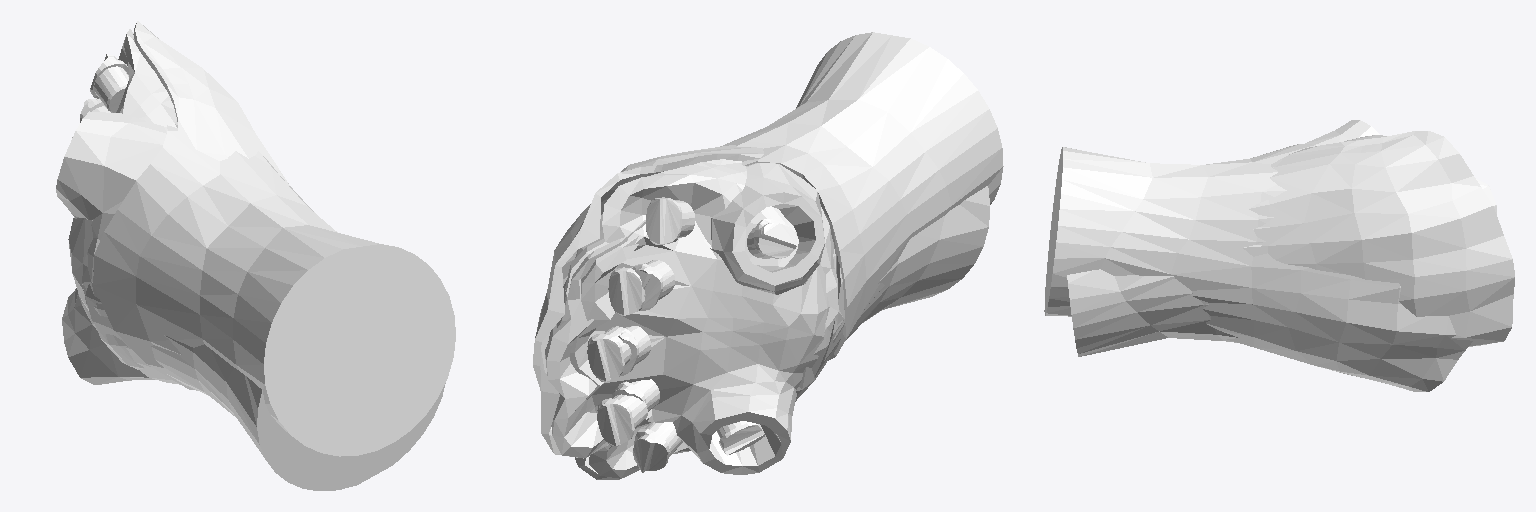
--- Render facts (derived) ---
3 views of the same robot in one strip: view 1: azimuth 30°, elevation 25°; view 2: azimuth 150°, elevation 25°; view 3: azimuth 270°, elevation 25° (orthographic).
Model JulietteY20MP_crowdbotsim with 56 links and 55 joints (45 revolute, 10 fixed), rooted at base_link, posed all joints at 0 but 6 set to mid-range because 0 is outside their limits (LShoulder_LBicep_joint = 0.7854, LElbow_LForeArm_joint = -0.7854, l_wrist_l_gripper_joint = 0.5, RShoulder_RBicep_joint = -0.7854, RElbow_RForeArm_joint = 0.7854, r_wrist_r_gripper_joint = 0.5).
Visible links, largest first — view 1: r_wrist, l_wrist; view 2: l_wrist, r_wrist; view 3: r_wrist, l_wrist.
Boxes of the visible links, x1,y1,x2,y2 form: r_wrist: (56, 99, 455, 456); l_wrist: (62, 21, 445, 490); l_wrist: (533, 145, 989, 474); r_wrist: (548, 32, 1003, 479); r_wrist: (1044, 120, 1496, 391); l_wrist: (1067, 131, 1514, 356).
Size in the robot's own frame: 7.04 by 16.62 by 9.7 metres.
Meshes: 49 distinct files referenced, 35 mesh visuals loaded (35 binary STL); not drawn: 14 (reference not matched to a file when rendering).

URDF robot description (JulietteY20MP_crowdbotsim):
?<?xml version="1.0" encoding="utf-8"?>
<robot name="JulietteY20MP_crowdbotsim">
  <material name="defaultMat">
    <color rgba="0.8 0.8 0.8 1" />
  </material>
  <material name="PepperWhiteBright">
    <color rgba="1 1 1 1" />
  </material>
  <material name="HipRoll_GROUPE_01_JULIETT.000Mat">
    <color rgba="0.8 0.8 0.8 1" />
  </material>
  <material name="HeadYaw_JULIETTE_TETE_GROUPE_Mat">
    <color rgba="0.8 0.8 0.8 1" />
  </material>
  <material name="LShoulderPitch_JULIETTE_BRAS_DR_.001Mat">
    <color rgba="0.8 0.8 0.8 1" />
  </material>
  <material name="LElbowYaw_JULIETTE_AV_BRAS_.026Mat">
    <color rgba="0.8 0.8 0.8 1" />
  </material>
  <material name="LFinger21_JULIETTE_AV_BRAS_.077Mat">
    <color rgba="0.8 0.8 0.8 1" />
  </material>
  <material name="LFinger22_JULIETTE_AV_BRAS_.078Mat">
    <color rgba="0.8 0.8 0.8 1" />
  </material>
  <material name="LFinger23_JULIETTE_AV_BRAS_.079Mat">
    <color rgba="0.8 0.8 0.8 1" />
  </material>
  <material name="LFinger11_JULIETTE_AV_BRAS_.075Mat">
    <color rgba="0.8 0.8 0.8 1" />
  </material>
  <material name="LFinger12_JULIETTE_AV_BRAS_.076Mat">
    <color rgba="0.8 0.8 0.8 1" />
  </material>
  <material name="LFinger13_JULIETTE_AV_BRAS_.010Mat">
    <color rgba="0.8 0.8 0.8 1" />
  </material>
  <material name="LFinger41_JULIETTE_AV_BRAS_.083Mat">
    <color rgba="0.8 0.8 0.8 1" />
  </material>
  <material name="LFinger42_JULIETTE_AV_BRAS_.084Mat">
    <color rgba="0.8 0.8 0.8 1" />
  </material>
  <material name="LFinger43_JULIETTE_AV_BRAS_.085Mat">
    <color rgba="0.8 0.8 0.8 1" />
  </material>
  <material name="LFinger31_JULIETTE_AV_BRAS_.080Mat">
    <color rgba="0.8 0.8 0.8 1" />
  </material>
  <material name="LFinger32_JULIETTE_AV_BRAS_.081Mat">
    <color rgba="0.8 0.8 0.8 1" />
  </material>
  <material name="LFinger33_JULIETTE_AV_BRAS_.082Mat">
    <color rgba="0.8 0.8 0.8 1" />
  </material>
  <material name="LThumb1_JULIETTE_AV_BRAS_.086Mat">
    <color rgba="0.8 0.8 0.8 1" />
  </material>
  <material name="LThumb2_JULIETTE_AV_BRAS_.087Mat">
    <color rgba="0.8 0.8 0.8 1" />
  </material>
  <material name="RShoulderPitch_JULIETTE_BRAS_DR_ALLMat">
    <color rgba="0.8 0.8 0.8 1" />
  </material>
  <material name="RElbowYaw_JULIETTE_AV_BRAS_.003Mat">
    <color rgba="0.8 0.8 0.8 1" />
  </material>
  <material name="RFinger41_JULIETTE_AV_BRAS_.099Mat">
    <color rgba="0.8 0.8 0.8 1" />
  </material>
  <material name="RFinger42_JULIETTE_AV_BRAS_.100Mat">
    <color rgba="0.8 0.8 0.8 1" />
  </material>
  <material name="RFinger43_JULIETTE_AV_BRAS_.101Mat">
    <color rgba="0.8 0.8 0.8 1" />
  </material>
  <material name="RFinger31_JULIETTE_AV_BRAS_.096Mat">
    <color rgba="0.8 0.8 0.8 1" />
  </material>
  <material name="RFinger32_JULIETTE_AV_BRAS_.097Mat">
    <color rgba="0.8 0.8 0.8 1" />
  </material>
  <material name="RFinger33_JULIETTE_AV_BRAS_.098Mat">
    <color rgba="0.8 0.8 0.8 1" />
  </material>
  <material name="RFinger21_JULIETTE_AV_BRAS_.093Mat">
    <color rgba="0.8 0.8 0.8 1" />
  </material>
  <material name="RFinger22_JULIETTE_AV_BRAS_.094Mat">
    <color rgba="0.8 0.8 0.8 1" />
  </material>
  <material name="RFinger23_JULIETTE_AV_BRAS_.095Mat">
    <color rgba="0.8 0.8 0.8 1" />
  </material>
  <material name="RFinger11_JULIETTE_AV_BRAS_.090Mat">
    <color rgba="0.8 0.8 0.8 1" />
  </material>
  <material name="RFinger12_JULIETTE_AV_BRAS_.091Mat">
    <color rgba="0.8 0.8 0.8 1" />
  </material>
  <material name="RFinger13_JULIETTE_AV_BRAS_.092Mat">
    <color rgba="0.8 0.8 0.8 1" />
  </material>
  <material name="RThumb1_JULIETTE_AV_BRAS_.088Mat">
    <color rgba="0.8 0.8 0.8 1" />
  </material>
  <material name="RThumb2_JULIETTE_AV_BRAS_.089Mat">
    <color rgba="0.8 0.8 0.8 1" />
  </material>
  <material name="WheelFL_GROUPE_01_JULIETT.003Mat">
    <color rgba="0.8 0.8 0.8 1" />
  </material>
  <material name="WheelB_GROUPE_01_JULIETT.004Mat">
    <color rgba="0.8 0.8 0.8 1" />
  </material>
  <material name="WheelFR_GROUPE_01_JULIETT.002Mat">
    <color rgba="0.8 0.8 0.8 1" />
  </material>
  <material name="PepperBlackMat">
    <color rgba="0.1471 0.1471 0.1471 1" />
  </material>
  <link name="base_link">
    <inertial>
      <origin rpy="0 0 0" xyz="0 0 0" />
      <mass value="0.001" />
      <inertia ixx="1" ixy="0" ixz="0" iyy="1" iyz="0" izz="1" />
    </inertial>
  </link>
  <link name="base_footprint">
    <inertial>
      <origin rpy="0 0 0" xyz="0 0 0" />
      <mass value="0.001" />
      <inertia ixx="1" ixy="0" ixz="0" iyy="1" iyz="0" izz="1" />
    </inertial>
  </link>
  <link name="Tibia">
    <inertial>
      <origin rpy="0 0 0" xyz="0.002205 0 0.082271" />
      <mass value="11.6014995575" />
      <inertia ixx="0.129179716110229" ixy="0.000148943698150106" ixz="-0.00131446425803006" iyy="0.122817315161228" iyz="-6.18266966512238E-08" izz="0.108239002525806" />
    </inertial>
    <visual>
      <geometry>
        <mesh filename="package://meshes/KneePitch_shiny.stl" scale="0.1 0.1 0.1" />
      </geometry>
      <material name="defaultMat" />
    </visual>
    <collision>
      <geometry>
        <mesh filename="package://meshes/KneePitch_0.10.stl" scale="0.1 0.1 0.1" />
      </geometry>
    </collision>
  </link>
  <link name="Pelvis">
    <inertial>
      <origin rpy="0 0 0" xyz="0.00237 0 -0.01754" />
      <mass value="2.4591701031" />
      <inertia ixx="0.0343529880046844" ixy="4.50889419880696E-05" ixz="-4.85995178678422E-06" iyy="0.0303127057850361" iyz="-8.37638581288047E-05" izz="0.0143746118992567" />
    </inertial>
    <visual>
      <origin xyz="0 0 0.268" />
      <geometry>
        <mesh filename="package://meshes/HipPitch_milky.stl" scale="0.1 0.1 0.1" />
      </geometry>
      <material name="PepperWhiteBright" />
    </visual>
    <collision>
      <origin xyz="0 0 0.268" />
      <geometry>
        <mesh filename="package://meshes/HipPitch_0.10.stl" scale="0.1 0.1 0.1" />
      </geometry>
    </collision>
  </link>
  <link name="Hip">
    <inertial>
      <origin rpy="0 0 0" xyz="0.00032 0 -0.07068" />
      <mass value="1.0233800411" />
      <inertia ixx="0.00440107891336083" ixy="4.93292791361455E-05" ixz="-4.91466471430613E-06" iyy="0.00502362661063671" iyz="5.6753218814265E-05" izz="0.00642004469409585" />
    </inertial>
    <visual>
      <origin xyz="0 0 0.079" />
      <geometry>
        <mesh filename="package://meshes/HipRoll_0.10.stl" scale="0.1 0.1 0.1" />
      </geometry>
      <material name="HipRoll_GROUPE_01_JULIETT.000Mat" />
    </visual>
    <collision>
      <origin xyz="0 0 0.079" />
      <geometry>
        <mesh filename="package://meshes/HipRoll_0.10.stl" scale="0.1 0.1 0.1" />
      </geometry>
    </collision>
  </link>
  <link name="torso">
    <inertial>
      <origin rpy="0 0 0" xyz="0.00322 0 0.12871" />
      <mass value="3.9953300953" />
      <inertia ixx="0.0462998189032078" ixy="0.000730161496903747" ixz="-0.000433180946856737" iyy="0.0434471257030964" iyz="-0.00027618368039839" izz="0.0246874690055847" />
    </inertial>
    <visual>
      <origin xyz="0 0 0.139" />
      <geometry>
        <mesh filename="package://meshes/Torso_milky.stl" scale="0.1 0.1 0.1" />
      </geometry>
      <material name="PepperWhiteBright" />
    </visual>
    <collision>
      <origin xyz="0 0 0.139" />
      <geometry>
        <mesh filename="package://meshes/Torso_0.10.stl" scale="0.1 0.1 0.1" />
      </geometry>
    </collision>
  </link>
  <link name="Neck">
    <inertial>
      <origin rpy="0 0 0" xyz="-0.00207 0 -0.02636" />
      <mass value="0.273909986" />
      <inertia ixx="0.000247044081334025" ixy="-2.66084553004475E-05" ixz="7.60054826969281E-05" iyy="0.000340656319167465" iyz="3.71161549992394E-05" izz="0.000464950891910121" />
    </inertial>
    <visual>
      <geometry>
        <mesh filename="package://meshes/HeadYaw_0.10.stl" scale="0.1 0.1 0.1" />
      </geometry>
      <material name="HeadYaw_JULIETTE_TETE_GROUPE_Mat" />
    </visual>
    <collision>
      <geometry>
        <mesh filename="package://meshes/HeadYaw_0.10.stl" scale="0.1 0.1 0.1" />
      </geometry>
    </collision>
  </link>
  <link name="Head">
    <inertial>
      <origin rpy="0 0 0" xyz="0.00312 0 0.11152" />
      <mass value="1.5189299583" />
      <inertia ixx="0.00600580452010036" ixy="3.95542592741549E-05" ixz="5.45834609511076E-07" iyy="0.00592098152264953" iyz="4.83686221741664E-07" izz="0.00565444212406874" />
    </inertial>
    <visual>
      <geometry>
        <mesh filename="package://meshes/HeadPitch_shiny.stl" scale="0.1 0.1 0.1" />
      </geometry>
      <material name="PepperWhiteBright" />
    </visual>
    <collision>
      <geometry>
        <mesh filename="package://meshes/HeadPitch_0.10.stl" scale="0.1 0.1 0.1" />
      </geometry>
    </collision>
  </link>
  <link name="LShoulder">
    <inertial>
      <origin rpy="0 0 0" xyz="0.00018 -0.01856 0.00099" />
      <mass value="0.3125" />
      <inertia ixx="0.000361108541255817" ixy="-4.89721378471586E-06" ixz="6.37525658930826E-07" iyy="0.000137213835841976" iyz="-2.2163221728988E-06" izz="0.000399298907723278" />
    </inertial>
    <visual>
      <geometry>
        <mesh filename="package://meshes/LShoulderPitch_0.10.stl" scale="0.1 0.1 0.1" />
      </geometry>
      <material name="LShoulderPitch_JULIETTE_BRAS_DR_.001Mat" />
    </visual>
    <collision>
      <geometry>
        <mesh filename="package://meshes/LShoulderPitch_0.10.stl" scale="0.1 0.1 0.1" />
      </geometry>
    </collision>
  </link>
  <link name="LBicep">
    <inertial>
      <origin rpy="0 0 0" xyz="0.08151 0.01284 -0.01017" />
      <mass value="0.5052700043" />
      <inertia ixx="0.000738023722078651" ixy="-0.00036056007957086" ixz="-3.75016170437448E-05" iyy="0.00101457489654422" iyz="-7.86051896284334E-06" izz="0.00116829376202077" />
    </inertial>
    <visual>
      <geometry>
        <mesh filename="package://meshes/LShoulderRoll_milky.stl" scale="0.1 0.1 0.1" />
      </geometry>
      <material name="PepperWhiteBright" />
    </visual>
    <collision>
      <geometry>
        <mesh filename="package://meshes/LShoulderRoll_0.10.stl" scale="0.1 0.1 0.1" />
      </geometry>
    </collision>
  </link>
  <link name="LElbow">
    <inertial>
      <origin rpy="0 0 0" xyz="-0.02297 -0.00019 0.00119" />
      <mass value="0.2749499977" />
      <inertia ixx="0.000195854983758181" ixy="-0.00010136554192286" ixz="1.06879879240296E-05" iyy="0.000255356484558433" iyz="2.80242579719925E-06" izz="0.00030657253228128" />
    </inertial>
    <visual>
      <geometry>
        <mesh filename="package://meshes/LElbowYaw_0.10.stl" scale="0.1 0.1 0.1" />
      </geometry>
      <material name="LElbowYaw_JULIETTE_AV_BRAS_.026Mat" />
    </visual>
    <collision>
      <geometry>
        <mesh filename="package://meshes/LElbowYaw_0.10.stl" scale="0.1 0.1 0.1" />
      </geometry>
    </collision>
  </link>
  <link name="LForeArm">
    <inertial>
      <origin rpy="0 0 0" xyz="0.0593 0.00271 -0.01014" />
      <mass value="0.1657900065" />
      <inertia ixx="0.00048063401482068" ixy="-0.000281982676824555" ixz="0.000403846177505329" iyy="0.00150039861910045" iyz="0.00013955649046693" izz="0.00158936984371394" />
    </inertial>
    <visual>
      <geometry>
        <mesh filename="package://meshes/LElbowRoll_shiny.stl" scale="0.1 0.1 0.1" />
      </geometry>
      <material name="defaultMat" />
    </visual>
    <collision>
      <geometry>
        <mesh filename="package://meshes/LElbowRoll_0.10.stl" scale="0.1 0.1 0.1" />
      </geometry>
    </collision>
  </link>
  <link name="l_wrist">
    <inertial>
      <origin rpy="0 0 0" xyz="0.03536 -0.00072 -0.00207" />
      <mass value="0.2755500078" />
      <inertia ixx="0.000421455479227006" ixy="1.13368487291154E-05" ixz="-5.45127004443202E-05" iyy="0.000426045298809186" iyz="8.72357850312255E-05" izz="0.000191413579159416" />
    </inertial>
    <visual>
      <geometry>
        <mesh filename="package://meshes/LWristYaw.stl" scale="0.1 0.1 0.1" />
      </geometry>
      <material name="PepperWhiteBright" />
    </visual>
    <collision>
      <geometry>
        <mesh filename="package://meshes/LWristYaw.stl" scale="0.1 0.1 0.1" />
      </geometry>
    </collision>
  </link>
  <link name="l_gripper">
    <inertial>
      <origin rpy="0 0 0" xyz="0 0 0" />
      <mass value="0.0020000001" />
      <inertia ixx="1" ixy="0" ixz="0" iyy="1" iyz="0" izz="1" />
    </inertial>
  </link>
  <link name="LFinger21_link">
    <inertial>
      <origin rpy="0 0 0" xyz="0 0 0" />
      <mass value="0.0020000001" />
      <inertia ixx="1" ixy="0" ixz="0" iyy="1" iyz="0" izz="1" />
    </inertial>
    <visual>
      <origin rpy="-1.57 0 0" />
      <geometry>
        <mesh filename="package://meshes/LFinger21.stl" scale="0.1 0.1 0.1" />
      </geometry>
      <material name="LFinger21_JULIETTE_AV_BRAS_.077Mat" />
    </visual>
    <collision>
      <origin rpy="-1.57 0 0" />
      <geometry>
        <mesh filename="package://meshes/LFinger21.dae" scale="0.1 0.1 0.1" />
      </geometry>
    </collision>
  </link>
  <link name="LFinger22_link">
    <inertial>
      <origin rpy="0 0 0" xyz="0 0 0" />
      <mass value="0.0020000001" />
      <inertia ixx="1" ixy="0" ixz="0" iyy="1" iyz="0" izz="1" />
    </inertial>
    <visual>
      <origin rpy="-1.57 0 0" />
      <geometry>
        <mesh filename="package://meshes/LFinger22.stl" scale="0.1 0.1 0.1" />
      </geometry>
      <material name="LFinger22_JULIETTE_AV_BRAS_.078Mat" />
    </visual>
    <collision>
      <origin rpy="-1.57 0 0" />
      <geometry>
        <mesh filename="package://meshes/LFinger22.dae" scale="0.1 0.1 0.1" />
      </geometry>
    </collision>
  </link>
  <link name="LFinger23_link">
    <inertial>
      <origin rpy="0 0 0" xyz="0 0 0" />
      <mass value="0.0020000001" />
      <inertia ixx="1" ixy="0" ixz="0" iyy="1" iyz="0" izz="1" />
    </inertial>
    <visual>
      <origin rpy="-1.57 0 0" />
      <geometry>
        <mesh filename="package://meshes/LFinger23.stl" scale="0.1 0.1 0.1" />
      </geometry>
      <material name="LFinger23_JULIETTE_AV_BRAS_.079Mat" />
    </visual>
    <collision>
      <origin rpy="-1.57 0 0" />
      <geometry>
        <mesh filename="package://meshes/LFinger23.dae" scale="0.1 0.1 0.1" />
      </geometry>
    </collision>
  </link>
  <link name="LFinger11_link">
    <inertial>
      <origin rpy="0 0 0" xyz="0 0 0" />
      <mass value="0.0020000001" />
      <inertia ixx="1" ixy="0" ixz="0" iyy="1" iyz="0" izz="1" />
    </inertial>
    <visual>
      <origin rpy="-1.57 0 0" />
      <geometry>
        <mesh filename="package://meshes/LFinger11.stl" scale="0.1 0.1 0.1" />
      </geometry>
      <material name="LFinger11_JULIETTE_AV_BRAS_.075Mat" />
    </visual>
    <collision>
      <origin rpy="-1.57 0 0" />
      <geometry>
        <mesh filename="package://meshes/LFinger11.dae" scale="0.1 0.1 0.1" />
      </geometry>
    </collision>
  </link>
  <link name="LFinger12_link">
    <inertial>
      <origin rpy="0 0 0" xyz="0 0 0" />
      <mass value="0.0020000001" />
      <inertia ixx="1" ixy="0" ixz="0" iyy="1" iyz="0" izz="1" />
    </inertial>
    <visual>
      <origin rpy="-1.57 0 0" />
      <geometry>
        <mesh filename="package://meshes/LFinger12.stl" scale="0.1 0.1 0.1" />
      </geometry>
      <material name="LFinger12_JULIETTE_AV_BRAS_.076Mat" />
    </visual>
    <collision>
      <origin rpy="-1.57 0 0" />
      <geometry>
        <mesh filename="package://meshes/LFinger12.dae" scale="0.1 0.1 0.1" />
      </geometry>
    </collision>
  </link>
  <link name="LFinger13_link">
    <inertial>
      <origin rpy="0 0 0" xyz="0 0 0" />
      <mass value="0.0020000001" />
      <inertia ixx="1" ixy="0" ixz="0" iyy="1" iyz="0" izz="1" />
    </inertial>
    <visual>
      <origin rpy="-1.57 0 0" />
      <geometry>
        <mesh filename="package://meshes/LFinger13.stl" scale="0.1 0.1 0.1" />
      </geometry>
      <material name="LFinger13_JULIETTE_AV_BRAS_.010Mat" />
    </visual>
    <collision>
      <origin rpy="-1.57 0 0" />
      <geometry>
        <mesh filename="package://meshes/LFinger13.dae" scale="0.1 0.1 0.1" />
      </geometry>
    </collision>
  </link>
  <link name="LFinger41_link">
    <inertial>
      <origin rpy="0 0 0" xyz="0 0 0" />
      <mass value="0.0020000001" />
      <inertia ixx="1" ixy="0" ixz="0" iyy="1" iyz="0" izz="1" />
    </inertial>
    <visual>
      <origin rpy="-1.57 0 0" />
      <geometry>
        <mesh filename="package://meshes/LFinger41.stl" scale="0.1 0.1 0.1" />
      </geometry>
      <material name="LFinger41_JULIETTE_AV_BRAS_.083Mat" />
    </visual>
    <collision>
      <origin rpy="-1.57 0 0" />
      <geometry>
        <mesh filename="package://meshes/LFinger41.dae" scale="0.1 0.1 0.1" />
      </geometry>
    </collision>
  </link>
  <link name="LFinger42_link">
    <inertial>
      <origin rpy="0 0 0" xyz="0 0 0" />
      <mass value="0.0020000001" />
      <inertia ixx="1" ixy="0" ixz="0" iyy="1" iyz="0" izz="1" />
    </inertial>
    <visual>
      <origin rpy="-1.57 0 0" />
      <geometry>
        <mesh filename="package://meshes/LFinger42.stl" scale="0.1 0.1 0.1" />
      </geometry>
      <material name="LFinger42_JULIETTE_AV_BRAS_.084Mat" />
    </visual>
    <collision>
      <origin rpy="-1.57 0 0" />
      <geometry>
        <mesh filename="package://meshes/LFinger42.dae" scale="0.1 0.1 0.1" />
      </geometry>
    </collision>
  </link>
  <link name="LFinger43_link">
    <inertial>
      <origin rpy="0 0 0" xyz="0 0 0" />
      <mass value="0.0020000001" />
      <inertia ixx="1" ixy="0" ixz="0" iyy="1" iyz="0" izz="1" />
    </inertial>
    <visual>
      <origin rpy="-1.57 0 0" />
      <geometry>
        <mesh filename="package://meshes/LFinger43.stl" scale="0.1 0.1 0.1" />
      </geometry>
      <material name="LFinger43_JULIETTE_AV_BRAS_.085Mat" />
    </visual>
    <collision>
      <origin rpy="-1.57 0 0" />
      <geometry>
        <mesh filename="package://meshes/LFinger43.dae" scale="0.1 0.1 0.1" />
      </geometry>
    </collision>
  </link>
  <link name="LFinger31_link">
    <inertial>
      <origin rpy="0 0 0" xyz="0 0 0" />
      <mass value="0.0020000001" />
      <inertia ixx="1" ixy="0" ixz="0" iyy="1" iyz="0" izz="1" />
    </inertial>
    <visual>
      <origin rpy="-1.57 0 0" />
      <geometry>
        <mesh filename="package://meshes/LFinger31.stl" scale="0.1 0.1 0.1" />
      </geometry>
      <material name="LFinger31_JULIETTE_AV_BRAS_.080Mat" />
    </visual>
    <collision>
      <origin rpy="-1.57 0 0" />
      <geometry>
        <mesh filename="package://meshes/LFinger31.dae" scale="0.1 0.1 0.1" />
      </geometry>
    </collision>
  </link>
  <link name="LFinger32_link">
    <inertial>
      <origin rpy="0 0 0" xyz="0 0 0" />
      <mass value="0.0020000001" />
      <inertia ixx="1" ixy="0" ixz="0" iyy="1" iyz="0" izz="1" />
    </inertial>
    <visual>
      <origin rpy="-1.57 0 0" />
      <geometry>
        <mesh filename="package://meshes/LFinger32.stl" scale="0.1 0.1 0.1" />
      </geometry>
      <material name="LFinger32_JULIETTE_AV_BRAS_.081Mat" />
    </visual>
    <collision>
      <origin rpy="-1.57 0 0" />
      <geometry>
        <mesh filename="package://meshes/LFinger32.dae" scale="0.1 0.1 0.1" />
      </geometry>
    </collision>
  </link>
  <link name="LFinger33_link">
    <inertial>
      <origin rpy="0 0 0" xyz="0 0 0" />
      <mass value="0.0020000001" />
      <inertia ixx="1" ixy="0" ixz="0" iyy="1" iyz="0" izz="1" />
    </inertial>
    <visual>
      <origin rpy="-1.57 0 0" />
      <geometry>
        <mesh filename="package://meshes/LFinger33.stl" scale="0.1 0.1 0.1" />
      </geometry>
      <material name="LFinger33_JULIETTE_AV_BRAS_.082Mat" />
    </visual>
    <collision>
      <origin rpy="-1.57 0 0" />
      <geometry>
        <mesh filename="package://meshes/LFinger33.dae" scale="0.1 0.1 0.1" />
      </geometry>
    </collision>
  </link>
  <link name="LThumb1_link">
    <inertial>
      <origin rpy="0 0 0" xyz="0 0 0" />
      <mass value="0.0020000001" />
      <inertia ixx="1" ixy="0" ixz="0" iyy="1" iyz="0" izz="1" />
    </inertial>
    <visual>
      <origin rpy="-1.57 0 0" />
      <geometry>
        <mesh filename="package://meshes/LThumb1.stl" scale="0.1 0.1 0.1" />
      </geometry>
      <material name="LThumb1_JULIETTE_AV_BRAS_.086Mat" />
    </visual>
    <collision>
      <origin rpy="-1.57 0 0" />
      <geometry>
        <mesh filename="package://meshes/LThumb1.dae" scale="0.1 0.1 0.1" />
      </geometry>
    </collision>
  </link>
  <link name="LThumb2_link">
    <inertial>
      <origin rpy="0 0 0" xyz="0 0 0" />
      <mass value="0.0020000001" />
      <inertia ixx="1" ixy="0" ixz="0" iyy="1" iyz="0" izz="1" />
    </inertial>
    <visual>
      <origin rpy="-1.57 0 0" />
      <geometry>
        <mesh filename="package://meshes/LThumb2.stl" scale="0.1 0.1 0.1" />
      </geometry>
      <material name="LThumb2_JULIETTE_AV_BRAS_.087Mat" />
    </visual>
    <collision>
      <origin rpy="-1.57 0 0" />
      <geometry>
        <mesh filename="package://meshes/LThumb2.dae" scale="0.1 0.1 0.1" />
      </geometry>
    </collision>
  </link>
  <link name="RShoulder">
    <inertial>
      <origin rpy="0 0 0" xyz="0.00018 0.01856 0.00099" />
      <mass value="0.3125" />
      <inertia ixx="0.000361108541255817" ixy="4.89721378471586E-06" ixz="6.37525658930826E-07" iyy="0.000137213835841976" iyz="2.2163221728988E-06" izz="0.000399298907723278" />
    </inertial>
    <visual>
      <geometry>
        <mesh filename="package://meshes/RShoulderPitch_0.10.stl" scale="0.1 0.1 0.1" />
      </geometry>
      <material name="RShoulderPitch_JULIETTE_BRAS_DR_ALLMat" />
    </visual>
    <collision>
      <geometry>
        <mesh filename="package://meshes/RShoulderPitch_0.10.stl" scale="0.1 0.1 0.1" />
      </geometry>
    </collision>
  </link>
  <link name="RBicep">
    <inertial>
      <origin rpy="0 0 0" xyz="0.08151 -0.01284 -0.01017" />
      <mass value="0.5052700043" />
      <inertia ixx="0.000793765531852841" ixy="-0.000377408548956737" ixz="-3.50773734680843E-05" iyy="0.000958748394623399" iyz="-9.73487112787552E-06" izz="0.0011683776974678" />
    </inertial>
    <visual>
      <geometry>
        <mesh filename="package://meshes/RShoulderRoll_milky.stl" scale="0.1 0.1 0.1" />
      </geometry>
      <material name="PepperWhiteBright" />
    </visual>
    <collision>
      <geometry>
        <mesh filename="package://meshes/RShoulderRoll_0.10.stl" scale="0.1 0.1 0.1" />
      </geometry>
    </collision>
  </link>
  <link name="RShoulderRoll_shiny">
    <inertial>
      <origin rpy="0 0 0" xyz="0 0 0" />
      <mass value="1E-05" />
      <inertia ixx="1" ixy="0" ixz="0" iyy="1" iyz="0" izz="1" />
    </inertial>
    <visual>
      <geometry>
        <mesh filename="package://meshes/RShoulderRoll_shiny.stl" scale="0.1 0.1 0.1" />
      </geometry>
      <material name="defaultMat" />
    </visual>
  </link>
  <link name="RElbow">
    <inertial>
      <origin rpy="0 0 0" xyz="-0.02297 0.00019 0.00119" />
      <mass value="0.2749499977" />
      <inertia ixx="0.000194782085600309" ixy="-0.000101040590379853" ixz="1.07393771031639E-05" iyy="0.000256431434536353" iyz="2.76397622656077E-06" izz="0.000306570524116978" />
    </inertial>
    <visual>
      <geometry>
        <mesh filename="package://meshes/RElbowYaw_0.10.stl" scale="0.1 0.1 0.1" />
      </geometry>
      <material name="RElbowYaw_JULIETTE_AV_BRAS_.003Mat" />
    </visual>
    <collision>
      <geometry>
        <mesh filename="package://meshes/RElbowYaw_0.10.stl" scale="0.1 0.1 0.1" />
      </geometry>
    </collision>
  </link>
  <link name="RForeArm">
    <inertial>
      <origin rpy="0 0 0" xyz="0.0593 -0.00271 -0.01014" />
      <mass value="0.1657900065" />
      <inertia ixx="0.000480270071420819" ixy="-0.000281236600130796" ixz="0.00040399661520496" iyy="0.00150082213804126" iyz="0.000139315001433715" izz="0.00158930895850062" />
    </inertial>
    <visual>
      <geometry>
        <mesh filename="package://meshes/RElbowRoll_shiny.stl" scale="0.1 0.1 0.1" />
      </geometry>
      <material name="defaultMat" />
    </visual>
    <collision>
      <geometry>
        <mesh filename="package://meshes/RElbowRoll_0.10.stl" scale="0.1 0.1 0.1" />
      </geometry>
    </collision>
  </link>
  <link name="RElbowRoll_milky">
    <inertial>
      <origin rpy="0 0 0" xyz="0 0 0" />
      <mass value="1E-05" />
      <inertia ixx="1" ixy="0" ixz="0" iyy="1" iyz="0" izz="1" />
    </inertial>
    <visual>
      <geometry>
        <mesh filename="package://meshes/RElbowRoll_milky.stl" scale="0.1 0.1 0.1" />
      </geometry>
      <material name="PepperWhiteBright" />
    </visual>
  </link>
  <link name="r_wrist">
    <inertial>
      <origin rpy="0 0 0" xyz="0.03536 0.00072 -0.00207" />
      <mass value="0.2755500078" />
      <inertia ixx="0.000427103193942457" ixy="-1.15079365059501E-06" ixz="-3.33570387738291E-05" iyy="0.000456119538284838" iyz="-1.15950751933269E-05" izz="0.000155691654072143" />
    </inertial>
    <visual>
      <geometry>
        <mesh filename="package://meshes/RWristYaw.stl" scale="0.1 0.1 0.1" />
      </geometry>
      <material name="PepperWhiteBright" />
    </visual>
    <collision>
      <geometry>
        <mesh filename="package://meshes/RWristYaw.dae" scale="0.001 0.001 0.001" />
      </geometry>
    </collision>
  </link>
  <link name="r_gripper">
    <inertial>
      <origin rpy="0 0 0" xyz="0 0 0" />
      <mass value="0.0020000001" />
      <inertia ixx="1" ixy="0" ixz="0" iyy="1" iyz="0" izz="1" />
    </inertial>
  </link>
  <link name="RHandTouchBack_frame">
    <inertial>
      <origin rpy="0 0 0" xyz="0 0 0" />
      <mass value="1E-05" />
      <inertia ixx="1" ixy="0" ixz="0" iyy="1" iyz="0" izz="1" />
    </inertial>
  </link>
  <link name="RFinger41_link">
    <inertial>
      <origin rpy="0 0 0" xyz="0 0 0" />
      <mass value="0.0020000001" />
      <inertia ixx="1" ixy="0" ixz="0" iyy="1" iyz="0" izz="1" />
    </inertial>
    <visual>
      <origin rpy="-1.57 0 0" />
      <geometry>
        <mesh filename="package://meshes/RFinger41.stl" scale="0.1 0.1 0.1" />
      </geometry>
      <material name="RFinger41_JULIETTE_AV_BRAS_.099Mat" />
    </visual>
    <collision>
      <origin rpy="-1.57 0 0" />
      <geometry>
        <mesh filename="package://meshes/RFinger41.dae" scale="0.001 0.001 0.001" />
      </geometry>
    </collision>
  </link>
  <link name="RFinger42_link">
    <inertial>
      <origin rpy="0 0 0" xyz="0 0 0" />
      <mass value="0.0020000001" />
      <inertia ixx="1" ixy="0" ixz="0" iyy="1" iyz="0" izz="1" />
    </inertial>
    <visual>
      <origin rpy="-1.57 0 0" />
      <geometry>
        <mesh filename="package://meshes/RFinger42.stl" scale="0.1 0.1 0.1" />
      </geometry>
      <material name="RFinger42_JULIETTE_AV_BRAS_.100Mat" />
    </visual>
    <collision>
      <origin rpy="-1.57 0 0" />
      <geometry>
        <mesh filename="package://meshes/RFinger42.dae" scale="0.001 0.001 0.001" />
      </geometry>
    </collision>
  </link>
  <link name="RFinger43_link">
    <inertial>
      <origin rpy="0 0 0" xyz="0 0 0" />
      <mass value="0.0020000001" />
      <inertia ixx="1" ixy="0" ixz="0" iyy="1" iyz="0" izz="1" />
    </inertial>
    <visual>
      <origin rpy="-1.57 0 0" />
      <geometry>
        <mesh filename="package://meshes/RFinger43.stl" scale="0.1 0.1 0.1" />
      </geometry>
      <material name="RFinger43_JULIETTE_AV_BRAS_.101Mat" />
    </visual>
    <collision>
      <origin rpy="-1.57 0 0" />
      <geometry>
        <mesh filename="package://meshes/RFinger43.dae" scale="0.001 0.001 0.001" />
      </geometry>
    </collision>
  </link>
  <link name="RFinger31_link">
    <inertial>
      <origin rpy="0 0 0" xyz="0 0 0" />
      <mass value="0.0020000001" />
      <inertia ixx="1" ixy="0" ixz="0" iyy="1" iyz="0" izz="1" />
    </inertial>
    <visual>
      <origin rpy="-1.57 0 0" />
      <geometry>
        <mesh filename="package://meshes/RFinger31.stl" scale="0.1 0.1 0.1" />
      </geometry>
      <material name="RFinger31_JULIETTE_AV_BRAS_.096Mat" />
    </visual>
    <collision>
      <origin rpy="-1.57 0 0" />
      <geometry>
        <mesh filename="package://meshes/RFinger31.dae" scale="0.001 0.001 0.001" />
      </geometry>
    </collision>
  </link>
  <link name="RFinger32_link">
    <inertial>
      <origin rpy="0 0 0" xyz="0 0 0" />
      <mass value="0.0020000001" />
      <inertia ixx="1" ixy="0" ixz="0" iyy="1" iyz="0" izz="1" />
    </inertial>
    <visual>
      <origin rpy="-1.57 0 0" />
      <geometry>
        <mesh filename="package://meshes/RFinger32.stl" scale="0.1 0.1 0.1" />
      </geometry>
      <material name="RFinger32_JULIETTE_AV_BRAS_.097Mat" />
    </visual>
    <collision>
      <origin rpy="-1.57 0 0" />
      <geometry>
        <mesh filename="package://meshes/RFinger32.dae" scale="0.001 0.001 0.001" />
      </geometry>
    </collision>
  </link>
  <link name="RFinger33_link">
    <inertial>
      <origin rpy="0 0 0" xyz="0 0 0" />
      <mass value="0.0020000001" />
      <inertia ixx="1" ixy="0" ixz="0" iyy="1" iyz="0" izz="1" />
    </inertial>
    <visual>
      <origin rpy="-1.57 0 0" />
      <geometry>
        <mesh filename="package://meshes/RFinger33.stl" scale="0.1 0.1 0.1" />
      </geometry>
      <material name="RFinger33_JULIETTE_AV_BRAS_.098Mat" />
    </visual>
    <collision>
      <origin rpy="-1.57 0 0" />
      <geometry>
        <mesh filename="package://meshes/RFinger33.dae" scale="0.001 0.001 0.001" />
      </geometry>
    </collision>
  </link>
  <link name="RFinger21_link">
    <inertial>
      <origin rpy="0 0 0" xyz="0 0 0" />
      <mass value="0.0020000001" />
      <inertia ixx="1" ixy="0" ixz="0" iyy="1" iyz="0" izz="1" />
    </inertial>
    <visual>
      <origin rpy="-1.57 0 0" />
      <geometry>
        <mesh filename="package://meshes/RFinger21.stl" scale="0.1 0.1 0.1" />
      </geometry>
      <material name="RFinger21_JULIETTE_AV_BRAS_.093Mat" />
    </visual>
    <collision>
      <origin rpy="-1.57 0 0" />
      <geometry>
        <mesh filename="package://meshes/RFinger21.dae" scale="0.001 0.001 0.001" />
      </geometry>
    </collision>
  </link>
  <link name="RFinger22_link">
    <inertial>
      <origin rpy="0 0 0" xyz="0 0 0" />
      <mass value="0.0020000001" />
      <inertia ixx="1" ixy="0" ixz="0" iyy="1" iyz="0" izz="1" />
    </inertial>
    <visual>
      <origin rpy="-1.57 0 0" />
      <geometry>
        <mesh filename="package://meshes/RFinger22.stl" scale="0.1 0.1 0.1" />
      </geometry>
      <material name="RFinger22_JULIETTE_AV_BRAS_.094Mat" />
    </visual>
    <collision>
      <origin rpy="-1.57 0 0" />
      <geometry>
        <mesh filename="package://meshes/RFinger22.dae" scale="0.001 0.001 0.001" />
      </geometry>
    </collision>
  </link>
  <link name="RFinger23_link">
    <inertial>
      <origin rpy="0 0 0" xyz="0 0 0" />
      <mass value="0.0020000001" />
      <inertia ixx="1" ixy="0" ixz="0" iyy="1" iyz="0" izz="1" />
    </inertial>
    <visual>
      <origin rpy="-1.57 0 0" />
      <geometry>
        <mesh filename="package://meshes/RFinger23.stl" scale="0.1 0.1 0.1" />
      </geometry>
      <material name="RFinger23_JULIETTE_AV_BRAS_.095Mat" />
    </visual>
    <collision>
      <origin rpy="-1.57 0 0" />
      <geometry>
        <mesh filename="package://meshes/RFinger23.dae" scale="0.001 0.001 0.001" />
      </geometry>
    </collision>
  </link>
  <link name="RFinger11_link">
    <inertial>
      <origin rpy="0 0 0" xyz="0 0 0" />
      <mass value="0.0020000001" />
      <inertia ixx="1" ixy="0" ixz="0" iyy="1" iyz="0" izz="1" />
    </inertial>
    <visual>
      <origin rpy="-1.57 0 0" />
      <geometry>
        <mesh filename="package://meshes/RFinger11.stl" scale="0.1 0.1 0.1" />
      </geometry>
      <material name="RFinger11_JULIETTE_AV_BRAS_.090Mat" />
    </visual>
    <collision>
      <origin rpy="-1.57 0 0" />
      <geometry>
        <mesh filename="package://meshes/RFinger11.dae" scale="0.001 0.001 0.001" />
      </geometry>
    </collision>
  </link>
  <link name="RFinger12_link">
    <inertial>
      <origin rpy="0 0 0" xyz="0 0 0" />
      <mass value="0.0020000001" />
      <inertia ixx="1" ixy="0" ixz="0" iyy="1" iyz="0" izz="1" />
    </inertial>
    <visual>
      <origin rpy="-1.57 0 0" />
      <geometry>
        <mesh filename="package://meshes/RFinger12.stl" scale="0.1 0.1 0.1" />
      </geometry>
      <material name="RFinger12_JULIETTE_AV_BRAS_.091Mat" />
    </visual>
    <collision>
      <origin rpy="-1.57 0 0" />
      <geometry>
        <mesh filename="package://meshes/RFinger12.dae" scale="0.001 0.001 0.001" />
      </geometry>
    </collision>
  </link>
  <link name="RFinger13_link">
    <inertial>
      <origin rpy="0 0 0" xyz="0 0 0" />
      <mass value="0.0020000001" />
      <inertia ixx="1" ixy="0" ixz="0" iyy="1" iyz="0" izz="1" />
    </inertial>
    <visual>
      <origin rpy="-1.57 0 0" />
      <geometry>
        <mesh filename="package://meshes/RFinger13.stl" scale="0.1 0.1 0.1" />
      </geometry>
      <material name="RFinger13_JULIETTE_AV_BRAS_.092Mat" />
    </visual>
    <collision>
      <origin rpy="-1.57 0 0" />
      <geometry>
        <mesh filename="package://meshes/RFinger13.dae" scale="0.001 0.001 0.001" />
      </geometry>
    </collision>
  </link>
  <link name="RThumb1_link">
    <inertial>
      <origin rpy="0 0 0" xyz="0 0 0" />
      <mass value="0.0020000001" />
      <inertia ixx="1" ixy="0" ixz="0" iyy="1" iyz="0" izz="1" />
    </inertial>
    <visual>
      <origin rpy="-1.57 0 0" />
      <geometry>
        <mesh filename="package://meshes/RThumb1.stl" scale="0.1 0.1 0.1" />
      </geometry>
      <material name="RThumb1_JULIETTE_AV_BRAS_.088Mat" />
    </visual>
    <collision>
      <origin rpy="-1.57 0 0" />
      <geometry>
        <mesh filename="package://meshes/RThumb1.dae" scale="0.001 0.001 0.001" />
      </geometry>
    </collision>
  </link>
  <link name="RThumb2_link">
    <inertial>
      <origin rpy="0 0 0" xyz="0 0 0" />
      <mass value="0.0020000001" />
      <inertia ixx="1" ixy="0" ixz="0" iyy="1" iyz="0" izz="1" />
    </inertial>
    <visual>
      <origin rpy="-1.57 0 0" />
      <geometry>
        <mesh filename="package://meshes/RThumb2.stl" scale="0.1 0.1 0.1" />
      </geometry>
      <material name="RThumb2_JULIETTE_AV_BRAS_.089Mat" />
    </visual>
    <collision>
      <origin rpy="-1.57 0 0" />
      <geometry>
        <mesh filename="package://meshes/RThumb2.dae" scale="0.001 0.001 0.001" />
      </geometry>
    </collision>
  </link>
  <link name="WheelFL_link">
    <inertial>
      <origin rpy="0 0 0" xyz="0 0 0" />
      <mass value="1.5802799463" />
      <inertia ixx="0.00296489312313497" ixy="5.12017209075566E-07" ixz="8.84578668092217E-08" iyy="0.00299945333972573" iyz="5.60776925340178E-06" izz="0.00303135369904339" />
    </inertial>
    <visual>
      <geometry>
        <mesh filename="package://meshes/WheelFL_0.10.stl" scale="0.1 0.1 0.1" />
      </geometry>
      <material name="WheelFL_GROUPE_01_JULIETT.003Mat" />
    </visual>
    <collision>
      <geometry>
        <mesh filename="package://meshes/WheelFL_0.10.stl" scale="0.1 0.1 0.1" />
      </geometry>
    </collision>
  </link>
  <link name="WheelB_link">
    <inertial>
      <origin rpy="0 0 0" xyz="0 0 0" />
      <mass value="1.5802799463" />
      <inertia ixx="0.00296489312313497" ixy="5.12017209075566E-07" ixz="8.84578668092217E-08" iyy="0.00299945333972573" iyz="5.60776925340178E-06" izz="0.00303135369904339" />
    </inertial>
    <visual>
      <geometry>
        <mesh filename="package://meshes/WheelB_0.10.stl" scale="0.1 0.1 0.1" />
      </geometry>
      <material name="WheelB_GROUPE_01_JULIETT.004Mat" />
    </visual>
    <collision>
      <geometry>
        <mesh filename="package://meshes/WheelB_0.10.stl" scale="0.1 0.1 0.1" />
      </geometry>
    </collision>
  </link>
  <link name="WheelFR_link">
    <inertial>
      <origin rpy="0 0 0" xyz="0 0 0" />
      <mass value="1.5802799463" />
      <inertia ixx="0.00296489312313497" ixy="5.12017209075566E-07" ixz="8.84578668092217E-08" iyy="0.00299945333972573" iyz="5.60776925340178E-06" izz="0.00303135369904339" />
    </inertial>
    <visual>
      <geometry>
        <mesh filename="package://meshes/WheelFR_0.10.stl" scale="0.1 0.1 0.1" />
      </geometry>
      <material name="WheelFR_GROUPE_01_JULIETT.002Mat" />
    </visual>
    <collision>
      <geometry>
        <mesh filename="package://meshes/WheelFR_0.10.stl" scale="0.1 0.1 0.1" />
      </geometry>
    </collision>
  </link>
  <link name="sick_laser_rear">
    <inertial>
      <origin rpy="0 0 0" xyz="0 0 0" />
      <mass value="1E-05" />
      <inertia ixx="1" ixy="0" ixz="0" iyy="1" iyz="0" izz="1" />
    </inertial>
    <visual>
      <geometry>
        <box size="0.05 0.05 0.05" />
      </geometry>
      <material name="PepperBlackMat" />
    </visual>
  </link>
  <link name="sick_laser_front">
    <inertial>
      <origin rpy="0 0 0" xyz="0 0 0" />
      <mass value="1E-05" />
      <inertia ixx="1" ixy="0" ixz="0" iyy="1" iyz="0" izz="1" />
    </inertial>
    <visual>
      <geometry>
        <box size="0.05 0.05 0.05" />
      </geometry>
      <material name="PepperBlackMat" />
    </visual>
  </link>
  <joint name="base_link_base_footprint_joint" type="fixed">
    <parent link="base_link" />
    <child link="base_footprint" />
  </joint>
  <joint name="base_footprint_Tibia_joint" type="fixed">
    <origin xyz="0 0 0.334" />
    <parent link="base_footprint" />
    <child link="Tibia" />
  </joint>
  <joint name="Tibia_Pelvis_joint" type="revolute">
    <parent link="Tibia" />
    <child link="Pelvis" />
    <axis xyz="0 -1 0" />
    <dynamics damping="1" friction="100" />
    <limit lower="-0.514872" upper="0.514872" effort="1000" velocity="1000" />
  </joint>
  <joint name="Pelvis_Hip_joint" type="revolute">
    <origin xyz="0 0 0.268" />
    <parent link="Pelvis" />
    <child link="Hip" />
    <axis xyz="0 -1 0" />
    <dynamics damping="1" friction="100" />
    <limit lower="-1.03847" upper="1.03847" effort="1000" velocity="1000" />
  </joint>
  <joint name="Hip_torso_joint" type="revolute">
    <origin xyz="-2E-05 0 0.079" />
    <parent link="Hip" />
    <child link="torso" />
    <axis xyz="-1 0 0" />
    <dynamics damping="1" friction="100" />
    <limit lower="-0.514872" upper="0.514872" effort="1000" velocity="1000" />
  </joint>
  <joint name="torso_Neck_joint" type="revolute">
    <origin xyz="-0.038 0 0.3089" />
    <parent link="torso" />
    <child link="Neck" />
    <axis xyz="0 0 1" />
    <dynamics damping="1" friction="100" />
    <limit lower="-2.08567" upper="2.08567" effort="1000" velocity="1000" />
  </joint>
  <joint name="Neck_Head_joint" type="revolute">
    <parent link="Neck" />
    <child link="Head" />
    <axis xyz="0 1 0" />
    <dynamics damping="1" friction="100" />
    <limit lower="-0.706858" upper="0.637045" effort="1000" velocity="1000" />
  </joint>
  <joint name="torso_LShoulder_joint" type="revolute">
    <origin xyz="-0.057 0.14974 0.22582" />
    <parent link="torso" />
    <child link="LShoulder" />
    <axis xyz="0 1 0" />
    <limit lower="-2.08567" upper="2.08567" effort="1000" velocity="1000" />
  </joint>
  <joint name="LShoulder_LBicep_joint" type="revolute">
    <parent link="LShoulder" />
    <child link="LBicep" />
    <axis xyz="0 0 1" />
    <limit lower="0.008727" upper="1.56207" effort="1000" velocity="1000" />
  </joint>
  <joint name="LBicep_LElbow_joint" type="revolute">
    <origin rpy="0 6.126106 0" xyz="0.1812 0.015 0.00013" />
    <parent link="LBicep" />
    <child link="LElbow" />
    <axis xyz="1 0 0" />
    <limit lower="-2.08567" upper="2.08567" effort="1000" velocity="1000" />
  </joint>
  <joint name="LElbow_LForeArm_joint" type="revolute">
    <parent link="LElbow" />
    <child link="LForeArm" />
    <axis xyz="0 0 1" />
    <limit lower="-1.56207" upper="-0.008727" effort="1000" velocity="1000" />
  </joint>
  <joint name="LForeArm_l_wrist_joint" type="revolute">
    <origin xyz="0.15 0 0" />
    <parent link="LForeArm" />
    <child link="l_wrist" />
    <axis xyz="1 0 0" />
    <limit lower="-1.82387" upper="1.82387" effort="1000" velocity="1000" />
  </joint>
  <joint name="l_wrist_l_gripper_joint" type="revolute">
    <origin xyz="0.025 0 0" />
    <parent link="l_wrist" />
    <child link="l_gripper" />
    <axis xyz="1 0 0" />
    <limit lower="0.02" upper="0.98" effort="1000" velocity="1000" />
  </joint>
  <joint name="l_wrist_LFinger21_link_joint" type="revolute">
    <origin rpy="-4.712385 1.0472 -0.061086" xyz="0.0873 -0.0073 0.006" />
    <parent link="l_wrist" />
    <child link="LFinger21_link" />
    <axis xyz="0 0 1" />
    <limit lower="0" upper="0.872665" effort="1000" velocity="1000" />
  </joint>
  <joint name="LFinger21_link_LFinger22_link_joint" type="revolute">
    <origin rpy="0 0 -1.0472" xyz="0.018 0 0" />
    <parent link="LFinger21_link" />
    <child link="LFinger22_link" />
    <axis xyz="0 0 1" />
    <limit lower="0" upper="0.872665" effort="1000" velocity="1000" />
  </joint>
  <joint name="LFinger22_link_LFinger23_link_joint" type="revolute">
    <origin rpy="0 0 -1.0472" xyz="0.018 0 0" />
    <parent link="LFinger22_link" />
    <child link="LFinger23_link" />
    <axis xyz="0 0 1" />
    <limit lower="0" upper="0.872665" effort="1000" velocity="1000" />
  </joint>
  <joint name="l_wrist_LFinger11_link_joint" type="revolute">
    <origin rpy="-4.539165 1.04064 -0.033433" xyz="0.0821 -0.0268 0.004" />
    <parent link="l_wrist" />
    <child link="LFinger11_link" />
    <axis xyz="0 0 1" />
    <limit lower="0" upper="0.872665" effort="1000" velocity="1000" />
  </joint>
  <joint name="LFinger11_link_LFinger12_link_joint" type="revolute">
    <origin rpy="0 0 -1.0472" xyz="0.018 0 0" />
    <parent link="LFinger11_link" />
    <child link="LFinger12_link" />
    <axis xyz="0 0 1" />
    <limit lower="0" upper="0.872665" effort="1000" velocity="1000" />
  </joint>
  <joint name="LFinger12_link_LFinger13_link_joint" type="revolute">
    <origin rpy="0 0 -1.0472" xyz="0.018 0 0" />
    <parent link="LFinger12_link" />
    <child link="LFinger13_link" />
    <axis xyz="0 0 1" />
    <limit lower="0" upper="0.872665" effort="1000" velocity="1000" />
  </joint>
  <joint name="l_wrist_LFinger41_link_joint" type="revolute">
    <origin rpy="-4.885615 1.04064 -6.214846" xyz="0.074 0.0309 0" />
    <parent link="l_wrist" />
    <child link="LFinger41_link" />
    <axis xyz="0 0 1" />
    <limit lower="0" upper="0.872665" effort="1000" velocity="1000" />
  </joint>
  <joint name="LFinger41_link_LFinger42_link_joint" type="revolute">
    <origin rpy="0 0 -1.0472" xyz="0.018 0 0" />
    <parent link="LFinger41_link" />
    <child link="LFinger42_link" />
    <axis xyz="0 0 1" />
    <limit lower="0" upper="0.872665" effort="1000" velocity="1000" />
  </joint>
  <joint name="LFinger42_link_LFinger43_link_joint" type="revolute">
    <origin rpy="0 0 -1.0472" xyz="0.018 0 0" />
    <parent link="LFinger42_link" />
    <child link="LFinger43_link" />
    <axis xyz="0 0 1" />
    <limit lower="0" upper="0.872665" effort="1000" velocity="1000" />
  </joint>
  <joint name="l_wrist_LFinger31_link_joint" type="revolute">
    <origin rpy="-4.816825 1.04483 -0.029314" xyz="0.0833 0.0123 0.004" />
    <parent link="l_wrist" />
    <child link="LFinger31_link" />
    <axis xyz="0 0 1" />
    <limit lower="0" upper="0.872665" effort="1000" velocity="1000" />
  </joint>
  <joint name="LFinger31_link_LFinger32_link_joint" type="revolute">
    <origin rpy="0 0 -1.0472" xyz="0.018 0 0" />
    <parent link="LFinger31_link" />
    <child link="LFinger32_link" />
    <axis xyz="0 0 1" />
    <limit lower="0" upper="0.872665" effort="1000" velocity="1000" />
  </joint>
  <joint name="LFinger32_link_LFinger33_link_joint" type="revolute">
    <origin rpy="0 0 -1.0472" xyz="0.018 0 0" />
    <parent link="LFinger32_link" />
    <child link="LFinger33_link" />
    <axis xyz="0 0 1" />
    <limit lower="0" upper="0.872665" effort="1000" velocity="1000" />
  </joint>
  <joint name="l_wrist_LThumb1_link_joint" type="revolute">
    <origin rpy="-2.55836 0.80626 -5.749207" xyz="0.0482 -0.0357 -0.0199" />
    <parent link="l_wrist" />
    <child link="LThumb1_link" />
    <axis xyz="0 0 1" />
    <limit lower="0" upper="0.872665" effort="1000" velocity="1000" />
  </joint>
  <joint name="LThumb1_link_LThumb2_link_joint" type="revolute">
    <origin rpy="0 0 -1.0472" xyz="0.022 0 0" />
    <parent link="LThumb1_link" />
    <child link="LThumb2_link" />
    <axis xyz="0 0 1" />
    <limit lower="0" upper="0.872665" effort="1000" velocity="1000" />
  </joint>
  <joint name="torso_RShoulder_joint" type="revolute">
    <origin xyz="-0.057 -0.14974 0.22582" />
    <parent link="torso" />
    <child link="RShoulder" />
    <axis xyz="0 1 0" />
    <limit lower="-2.08567" upper="2.08567" effort="1000" velocity="1000" />
  </joint>
  <joint name="RShoulder_RBicep_joint" type="revolute">
    <parent link="RShoulder" />
    <child link="RBicep" />
    <axis xyz="0 0 1" />
    <limit lower="-1.56207" upper="-0.008727" effort="1000" velocity="1000" />
  </joint>
  <joint name="RBicep_RShoulderRoll_shiny_joint" type="fixed">
    <parent link="RBicep" />
    <child link="RShoulderRoll_shiny" />
  </joint>
  <joint name="RBicep_RElbow_joint" type="revolute">
    <origin rpy="0 6.126106 0" xyz="0.1812 -0.015 0.00013" />
    <parent link="RBicep" />
    <child link="RElbow" />
    <axis xyz="1 0 0" />
    <limit lower="-2.08567" upper="2.08567" effort="1000" velocity="1000" />
  </joint>
  <joint name="RElbow_RForeArm_joint" type="revolute">
    <parent link="RElbow" />
    <child link="RForeArm" />
    <axis xyz="0 0 1" />
    <limit lower="0.008727" upper="1.56207" effort="1000" velocity="1000" />
  </joint>
  <joint name="RForeArm_RElbowRoll_milky_joint" type="fixed">
    <parent link="RForeArm" />
    <child link="RElbowRoll_milky" />
  </joint>
  <joint name="RForeArm_r_wrist_joint" type="revolute">
    <origin xyz="0.15 0 0" />
    <parent link="RForeArm" />
    <child link="r_wrist" />
    <axis xyz="1 0 0" />
    <limit lower="-1.82387" upper="1.82387" effort="1000" velocity="1000" />
  </joint>
  <joint name="r_wrist_r_gripper_joint" type="revolute">
    <origin xyz="0.025 0 0" />
    <parent link="r_wrist" />
    <child link="r_gripper" />
    <axis xyz="1 0 0" />
    <limit lower="0.02" upper="0.98" effort="1000" velocity="1000" />
  </joint>
  <joint name="r_wrist_RHandTouchBack_frame_joint" type="fixed">
    <origin rpy="0 4.712389 -1.570786" xyz="0.0523 0 0.0304" />
    <parent link="r_wrist" />
    <child link="RHandTouchBack_frame" />
  </joint>
  <joint name="r_wrist_RFinger41_link_joint" type="revolute">
    <origin rpy="-4.539165 1.04064 -0.06834" xyz="0.074 -0.0309 0" />
    <parent link="r_wrist" />
    <child link="RFinger41_link" />
    <axis xyz="0 0 1" />
    <limit lower="0" upper="0.872665" effort="1000" velocity="1000" />
  </joint>
  <joint name="RFinger41_link_RFinger42_link_joint" type="revolute">
    <origin rpy="0 0 -1.0472" xyz="0.018 0 0" />
    <parent link="RFinger41_link" />
    <child link="RFinger42_link" />
    <axis xyz="0 0 1" />
    <limit lower="0" upper="0.872665" effort="1000" velocity="1000" />
  </joint>
  <joint name="RFinger42_link_RFinger43_link_joint" type="revolute">
    <origin rpy="0 0 -1.0472" xyz="0.018 0 0" />
    <parent link="RFinger42_link" />
    <child link="RFinger43_link" />
    <axis xyz="0 0 1" />
    <limit lower="0" upper="0.872665" effort="1000" velocity="1000" />
  </joint>
  <joint name="r_wrist_RFinger31_link_joint" type="revolute">
    <origin rpy="-4.607955 1.04483 -6.253869" xyz="0.0833 -0.0123 0.004" />
    <parent link="r_wrist" />
    <child link="RFinger31_link" />
    <axis xyz="0 0 1" />
    <limit lower="0" upper="0.872665" effort="1000" velocity="1000" />
  </joint>
  <joint name="RFinger31_link_RFinger32_link_joint" type="revolute">
    <origin rpy="0 0 -1.0472" xyz="0.018 0 0" />
    <parent link="RFinger31_link" />
    <child link="RFinger32_link" />
    <axis xyz="0 0 1" />
    <limit lower="0" upper="0.872665" effort="1000" velocity="1000" />
  </joint>
  <joint name="RFinger32_link_RFinger33_link_joint" type="revolute">
    <origin rpy="0 0 -1.0472" xyz="0.018 0 0" />
    <parent link="RFinger32_link" />
    <child link="RFinger33_link" />
    <axis xyz="0 0 1" />
    <limit lower="0" upper="0.872665" effort="1000" velocity="1000" />
  </joint>
  <joint name="r_wrist_RFinger21_link_joint" type="revolute">
    <origin rpy="-4.712386 1.0472 -6.222099" xyz="0.0873 0.0073 0.006" />
    <parent link="r_wrist" />
    <child link="RFinger21_link" />
    <axis xyz="0 0 1" />
    <limit lower="0" upper="0.872665" effort="1000" velocity="1000" />
  </joint>
  <joint name="RFinger21_link_RFinger22_link_joint" type="revolute">
    <origin rpy="0 0 -1.0472" xyz="0.018 0 0" />
    <parent link="RFinger21_link" />
    <child link="RFinger22_link" />
    <axis xyz="0 0 1" />
    <limit lower="0" upper="0.872665" effort="1000" velocity="1000" />
  </joint>
  <joint name="RFinger22_link_RFinger23_link_joint" type="revolute">
    <origin rpy="0 0 -1.0472" xyz="0.018 0 0" />
    <parent link="RFinger22_link" />
    <child link="RFinger23_link" />
    <axis xyz="0 0 1" />
    <limit lower="0" upper="0.872665" effort="1000" velocity="1000" />
  </joint>
  <joint name="r_wrist_RFinger11_link_joint" type="revolute">
    <origin rpy="-4.885615 1.04064 -6.249752" xyz="0.0821 0.0268 0.004" />
    <parent link="r_wrist" />
    <child link="RFinger11_link" />
    <axis xyz="0 0 1" />
    <limit lower="0" upper="0.872665" effort="1000" velocity="1000" />
  </joint>
  <joint name="RFinger11_link_RFinger12_link_joint" type="revolute">
    <origin rpy="0 0 -1.0472" xyz="0.018 0 0" />
    <parent link="RFinger11_link" />
    <child link="RFinger12_link" />
    <axis xyz="0 0 1" />
    <limit lower="0" upper="0.872665" effort="1000" velocity="1000" />
  </joint>
  <joint name="RFinger12_link_RFinger13_link_joint" type="revolute">
    <origin rpy="0 0 -1.0472" xyz="0.018 0 0" />
    <parent link="RFinger12_link" />
    <child link="RFinger13_link" />
    <axis xyz="0 0 1" />
    <limit lower="0" upper="0.872665" effort="1000" velocity="1000" />
  </joint>
  <joint name="r_wrist_RThumb1_link_joint" type="revolute">
    <origin rpy="-0.58323 0.80626 -0.533978" xyz="0.0482 0.0357 -0.0199" />
    <parent link="r_wrist" />
    <child link="RThumb1_link" />
    <axis xyz="0 0 1" />
    <limit lower="0" upper="0.872665" effort="1000" velocity="1000" />
  </joint>
  <joint name="RThumb1_link_RThumb2_link_joint" type="revolute">
    <origin rpy="0 0 -1.0472" xyz="0.022 0 0" />
    <parent link="RThumb1_link" />
    <child link="RThumb2_link" />
    <axis xyz="0 0 1" />
    <limit lower="0" upper="0.872665" effort="1000" velocity="1000" />
  </joint>
  <joint name="Tibia_WheelFL_link_joint" type="fixed">
    <origin rpy="0 0 -5.208015" xyz="0.09 0.155 -0.264" />
    <parent link="Tibia" />
    <child link="WheelFL_link" />
  </joint>
  <joint name="Tibia_WheelB_link_joint" type="fixed">
    <origin rpy="0 0 -3.14159" xyz="-0.17 0 -0.264" />
    <parent link="Tibia" />
    <child link="WheelB_link" />
  </joint>
  <joint name="Tibia_WheelFR_link_joint" type="fixed">
    <origin rpy="0 0 -1.07517" xyz="0.09 -0.155 -0.264" />
    <parent link="Tibia" />
    <child link="WheelFR_link" />
  </joint>
  <joint name="Tibia_sick_laser_rear_joint" type="fixed">
    <origin rpy="0 0 -3.141593" xyz="-0.245 0 -0.1" />
    <parent link="Tibia" />
    <child link="sick_laser_rear" />
  </joint>
  <joint name="Tibia_sick_laser_front_joint" type="fixed">
    <origin xyz="0.245 0 -0.1" />
    <parent link="Tibia" />
    <child link="sick_laser_front" />
  </joint>
  <transmission name="HeadYaw_Transmission">
  <type>transmission_interface/SimpleTransmission</type>
  <joint name="HeadYaw">
    <hardwareInterface>hardware_interface/PositionJointInterface</hardwareInterface>
  </joint>
  <actuator name="HeadYaw_Motor">
    <!-- Dummy Values -->
    <hardwareInterface>PositionJointInterface</hardwareInterface>
    <mechanicalReduction>101.3</mechanicalReduction>
  </actuator>
</transmission>
<transmission name="HeadPitch_Transmission">
  <type>transmission_interface/SimpleTransmission</type>
  <joint name="HeadPitch">
    <hardwareInterface>hardware_interface/PositionJointInterface</hardwareInterface>
  </joint>
  <actuator name="HeadPitch_Motor">
    <!-- Dummy Values -->
    <hardwareInterface>PositionJointInterface</hardwareInterface>
    <mechanicalReduction>118.1</mechanicalReduction>
  </actuator>
</transmission>
<transmission name="LShoulderPitch_Transmission">
  <type>transmission_interface/SimpleTransmission</type>
  <joint name="LShoulderPitch">
    <hardwareInterface>hardware_interface/PositionJointInterface</hardwareInterface>
  </joint>
  <actuator name="LShoulderPitch_Motor">
    <hardwareInterface>PositionJointInterface</hardwareInterface>
    <mechanicalReduction>101.3</mechanicalReduction>
  </actuator>
</transmission>
<transmission name="LShoulderRoll_Transmission">
  <type>transmission_interface/SimpleTransmission</type>
  <joint name="LShoulderRoll">
    <hardwareInterface>hardware_interface/PositionJointInterface</hardwareInterface>
  </joint>
  <actuator name="LShoulderRoll_Motor">
    <hardwareInterface>PositionJointInterface</hardwareInterface>
    <mechanicalReduction>118.1</mechanicalReduction>
  </actuator>
</transmission>
<transmission name="LElbowYaw_Transmission">
  <type>transmission_interface/SimpleTransmission</type>
  <joint name="LElbowYaw">
    <hardwareInterface>hardware_interface/PositionJointInterface</hardwareInterface>
  </joint>
  <actuator name="LElbowYaw_Motor">
    <hardwareInterface>PositionJointInterface</hardwareInterface>
    <mechanicalReduction>101.3</mechanicalReduction>
  </actuator>
</transmission>
<transmission name="LElbowRoll_Transmission">
  <type>transmission_interface/SimpleTransmission</type>
  <joint name="LElbowRoll">
    <hardwareInterface>hardware_interface/PositionJointInterface</hardwareInterface>
  </joint>
  <actuator name="LElbowRoll_Motor">
    <hardwareInterface>PositionJointInterface</hardwareInterface>
    <mechanicalReduction>118.1</mechanicalReduction>
  </actuator>
</transmission>
<transmission name="LWristYaw_Transmission">
  <type>transmission_interface/SimpleTransmission</type>
  <joint name="LWristYaw">
    <hardwareInterface>hardware_interface/PositionJointInterface</hardwareInterface>
  </joint>
  <actuator name="LWristYaw_Motor">
    <hardwareInterface>PositionJointInterface</hardwareInterface>
    <mechanicalReduction>118.1</mechanicalReduction>
  </actuator>
</transmission>
<transmission name="LHand_Transmission">
  <type>transmission_interface/SimpleTransmission</type>
  <joint name="LHand">
    <hardwareInterface>hardware_interface/PositionJointInterface</hardwareInterface>
  </joint>
  <actuator name="LHand_Motor">
    <hardwareInterface>PositionJointInterface</hardwareInterface>
    <mechanicalReduction>36.24</mechanicalReduction>
  </actuator>
</transmission>
<transmission name="RShoulderPitch_Transmission">
  <type>transmission_interface/SimpleTransmission</type>
  <joint name="RShoulderPitch">
    <hardwareInterface>hardware_interface/PositionJointInterface</hardwareInterface>
  </joint>
  <actuator name="RShoulderPitch_Motor">
    <hardwareInterface>PositionJointInterface</hardwareInterface>
    <mechanicalReduction>101.3</mechanicalReduction>
  </actuator>
</transmission>
<transmission name="RShoulderRoll_Transmission">
  <type>transmission_interface/SimpleTransmission</type>
  <joint name="RShoulderRoll">
    <hardwareInterface>hardware_interface/PositionJointInterface</hardwareInterface>
  </joint>
  <actuator name="RShoulderRoll_Motor">
    <hardwareInterface>PositionJointInterface</hardwareInterface>
    <mechanicalReduction>118.1</mechanicalReduction>
  </actuator>
</transmission>
<transmission name="RElbowYaw_Transmission">
  <type>transmission_interface/SimpleTransmission</type>
  <joint name="RElbowYaw">
    <hardwareInterface>hardware_interface/PositionJointInterface</hardwareInterface>
  </joint>
  <actuator name="RElbowYaw_Motor">
    <hardwareInterface>PositionJointInterface</hardwareInterface>
    <mechanicalReduction>101.3</mechanicalReduction>
  </actuator>
</transmission>
<transmission name="RElbowRoll_Transmission">
  <type>transmission_interface/SimpleTransmission</type>
  <joint name="RElbowRoll">
    <hardwareInterface>hardware_interface/PositionJointInterface</hardwareInterface>
  </joint>
  <actuator name="RElbowRoll_Motor">
    <hardwareInterface>PositionJointInterface</hardwareInterface>
    <mechanicalReduction>118.1</mechanicalReduction>
  </actuator>
</transmission>
<transmission name="RWristYaw_Transmission">
  <type>transmission_interface/SimpleTransmission</type>
  <joint name="RWristYaw">
    <hardwareInterface>hardware_interface/PositionJointInterface</hardwareInterface>
  </joint>
  <actuator name="RWristYaw_Motor">
    <hardwareInterface>PositionJointInterface</hardwareInterface>
    <mechanicalReduction>118.1</mechanicalReduction>
  </actuator>
</transmission>
<transmission name="RHand_Transmission">
  <type>transmission_interface/SimpleTransmission</type>
  <joint name="RHand">
    <hardwareInterface>hardware_interface/PositionJointInterface</hardwareInterface>
  </joint>
  <actuator name="RHand_Motor">
    <hardwareInterface>PositionJointInterface</hardwareInterface>
    <mechanicalReduction>36.24</mechanicalReduction>
  </actuator>
</transmission>
<transmission name="HipRoll_Transmission">
  <type>transmission_interface/SimpleTransmission</type>
  <joint name="HipRoll">
    <hardwareInterface>hardware_interface/PositionJointInterface</hardwareInterface>
  </joint>
  <actuator name="HipRoll_Motor">
    <!-- Dummy Values -->
    <hardwareInterface>PositionJointInterface</hardwareInterface>
    <mechanicalReduction>108.33</mechanicalReduction>
  </actuator>
</transmission>
<transmission name="HipPitch_Transmission">
  <type>transmission_interface/SimpleTransmission</type>
  <joint name="HipPitch">
    <hardwareInterface>hardware_interface/PositionJointInterface</hardwareInterface>
  </joint>
  <actuator name="HipPitch_Motor">
    <!-- Dummy Values -->
    <hardwareInterface>PositionJointInterface</hardwareInterface>
    <mechanicalReduction>108.33</mechanicalReduction>
  </actuator>
</transmission>
<transmission name="KneePitch_Transmission">
  <type>transmission_interface/SimpleTransmission</type>
  <joint name="KneePitch">
    <hardwareInterface>hardware_interface/PositionJointInterface</hardwareInterface>
  </joint>
  <actuator name="KneePitch_Motor">
    <!-- Dummy Values -->
    <hardwareInterface>PositionJointInterface</hardwareInterface>
    <mechanicalReduction>108.33</mechanicalReduction>
  </actuator>
</transmission>
<transmission name="WheelFL_Transmission">
  <type>transmission_interface/SimpleTransmission</type>
  <joint name="WheelFL">
    <hardwareInterface>hardware_interface/EffortJointInterface</hardwareInterface>
  </joint>
  <actuator name="WheelFL_Motor">
    <!-- Dummy Values -->
    <hardwareInterface>EffortJointInterface</hardwareInterface>
    <mechanicalReduction>25.0</mechanicalReduction>
  </actuator>
</transmission>
<transmission name="WheelB_Transmission">
  <type>transmission_interface/SimpleTransmission</type>
  <joint name="WheelB">
    <hardwareInterface>hardware_interface/EffortJointInterface</hardwareInterface>
  </joint>
  <actuator name="WheelB_Motor">
    <!-- Dummy Values -->
    <hardwareInterface>EffortJointInterface</hardwareInterface>
    <mechanicalReduction>25.0</mechanicalReduction>
  </actuator>
</transmission>
<transmission name="WheelFR_Transmission">
  <type>transmission_interface/SimpleTransmission</type>
  <joint name="WheelFR">
    <hardwareInterface>hardware_interface/EffortJointInterface</hardwareInterface>
  </joint>
  <actuator name="WheelFR_Motor">
    <!-- Dummy Values -->
    <hardwareInterface>EffortJointInterface</hardwareInterface>
    <mechanicalReduction>25.0</mechanicalReduction>
  </actuator>
</transmission>
</robot>
